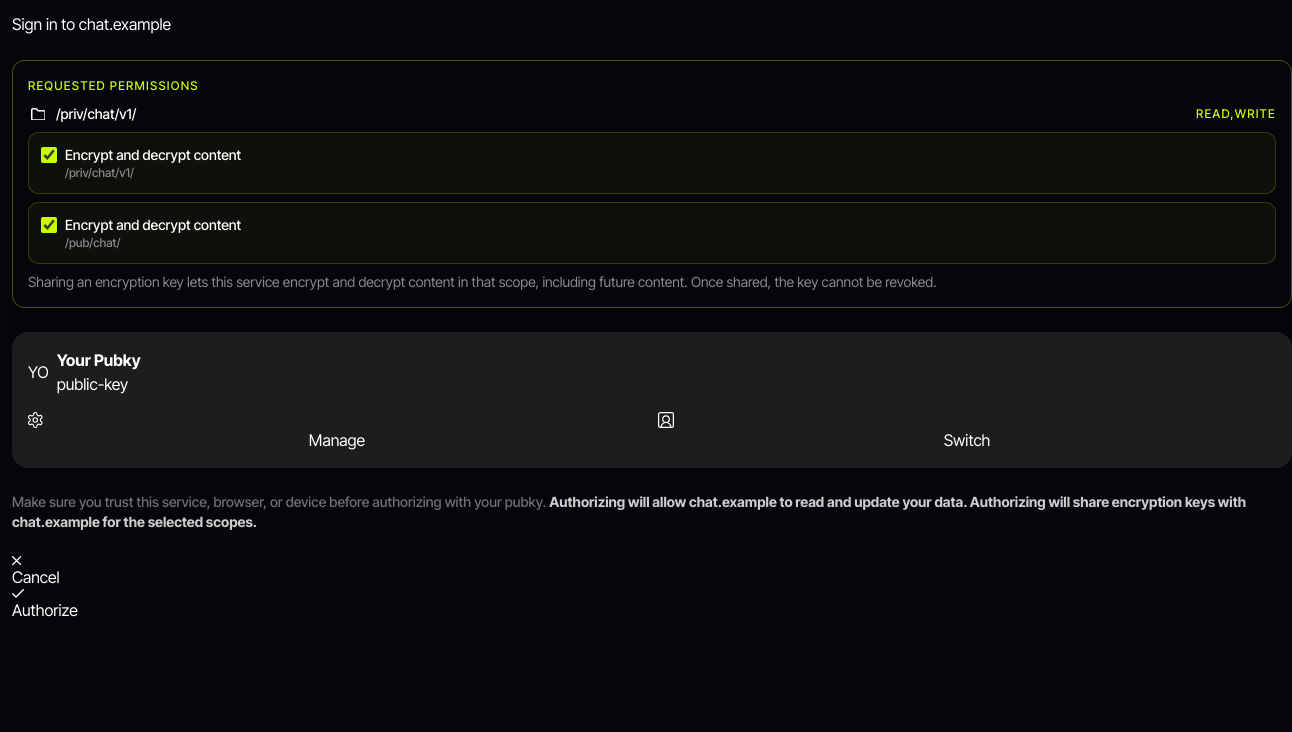
it: AuthorizationReview encryption consent › declines encryption without changing storage and sends only the declined paths
Click the checkbox labelled "Encrypt and decrypt content /priv/chat/v1/".
click(49, 155)  # box x1=41 y1=147 x2=57 y2=163
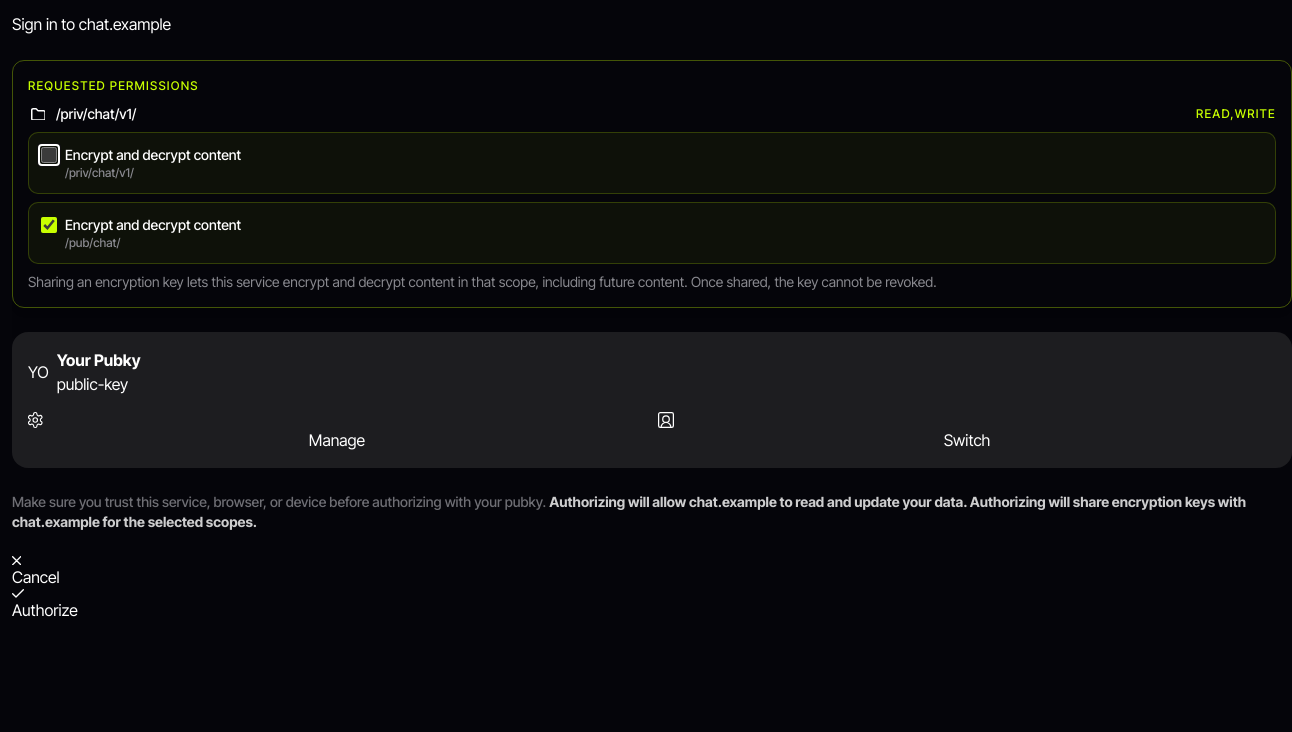
Expected: the text "Read,write" is shown, x1=1196 y1=106 x2=1276 y2=122
Expected: the checkbox labelled "Encrypt and decrypt content /pub/chat/" is checked, x1=41 y1=217 x2=57 y2=233
Double-click the button "Authorize".
double_click(45, 606)  # box x1=12 y1=589 x2=78 y2=622
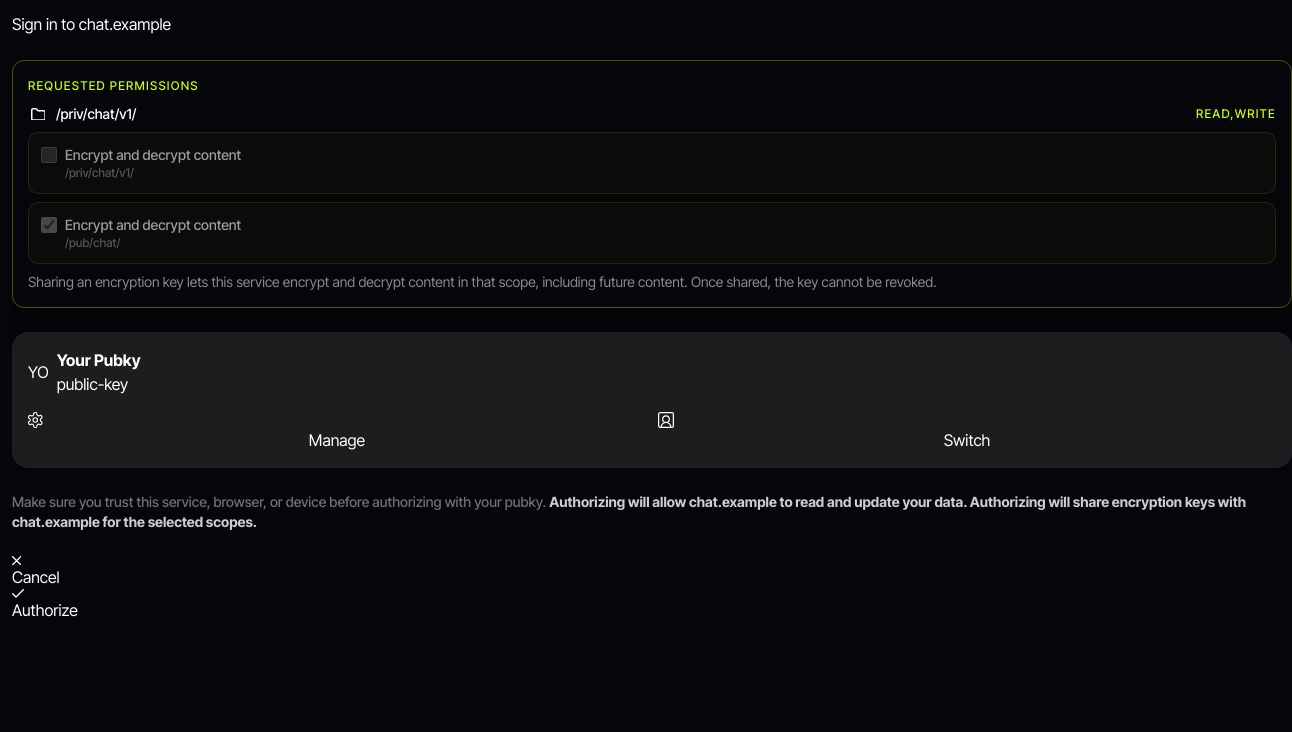
Now the checkbox labelled "Encrypt and decrypt content /priv/chat/v1/" is disabled, box x1=41 y1=147 x2=57 y2=163
Now the checkbox labelled "Encrypt and decrypt content /pub/chat/" is disabled, box x1=41 y1=217 x2=57 y2=233
